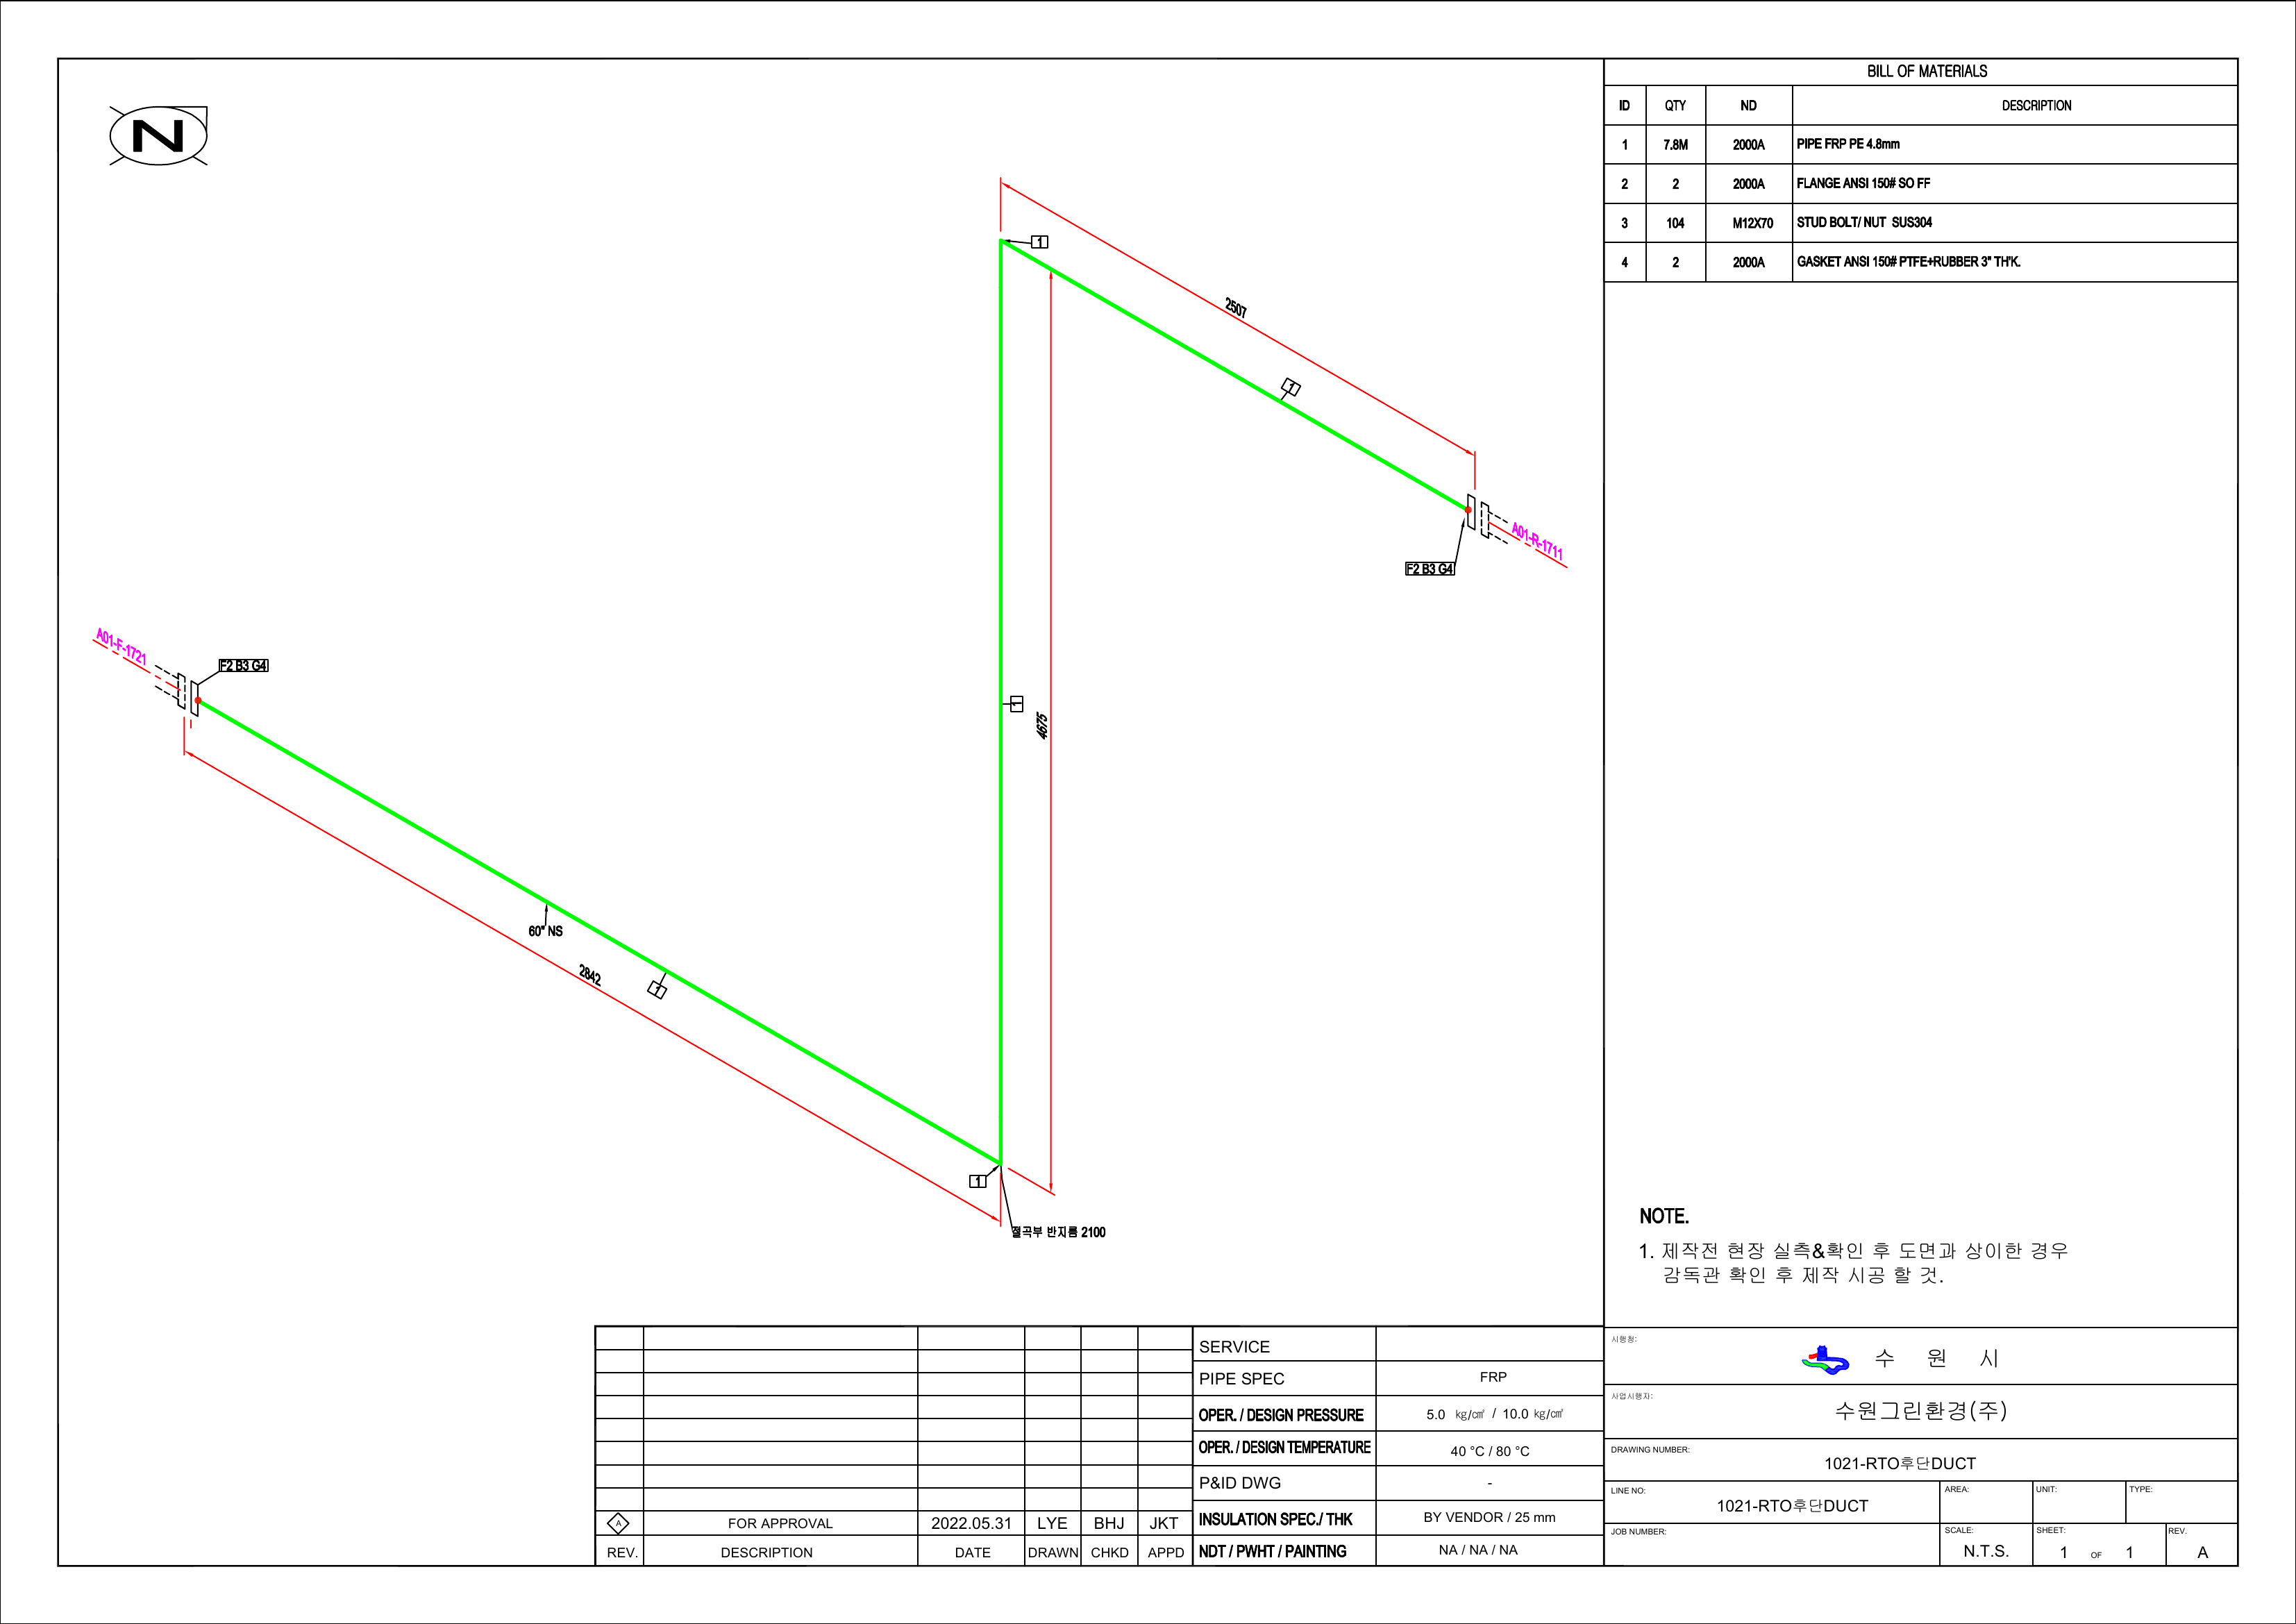table: (1600, 51, 2242, 292)
